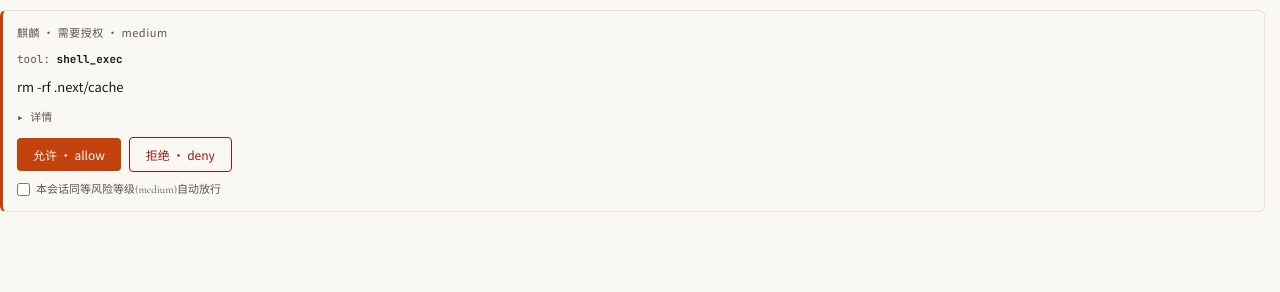
Test: InlineApproval — Iter F 交互 primitives › detail toggle expands the pre block
Click the button with test id "inline-approval-detail-toggle" at (35, 118), box [17, 108, 52, 128]
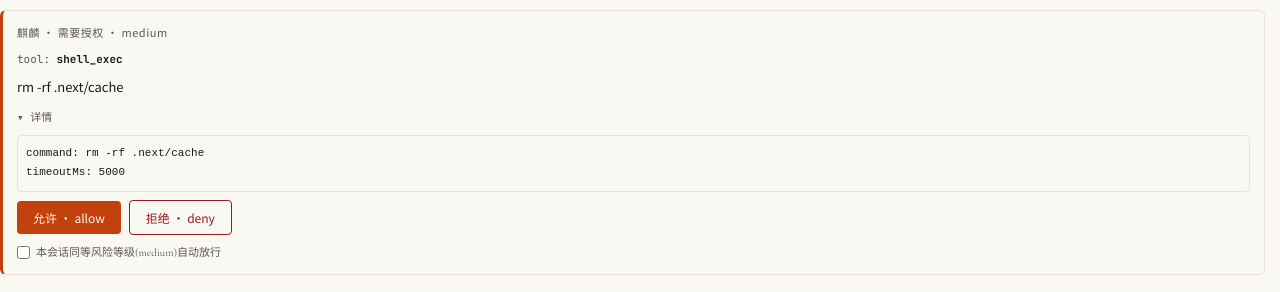
Expected: the text "command: rm -rf .next/cache timeoutMs: 5000" is shown, [17, 135, 1250, 192]
